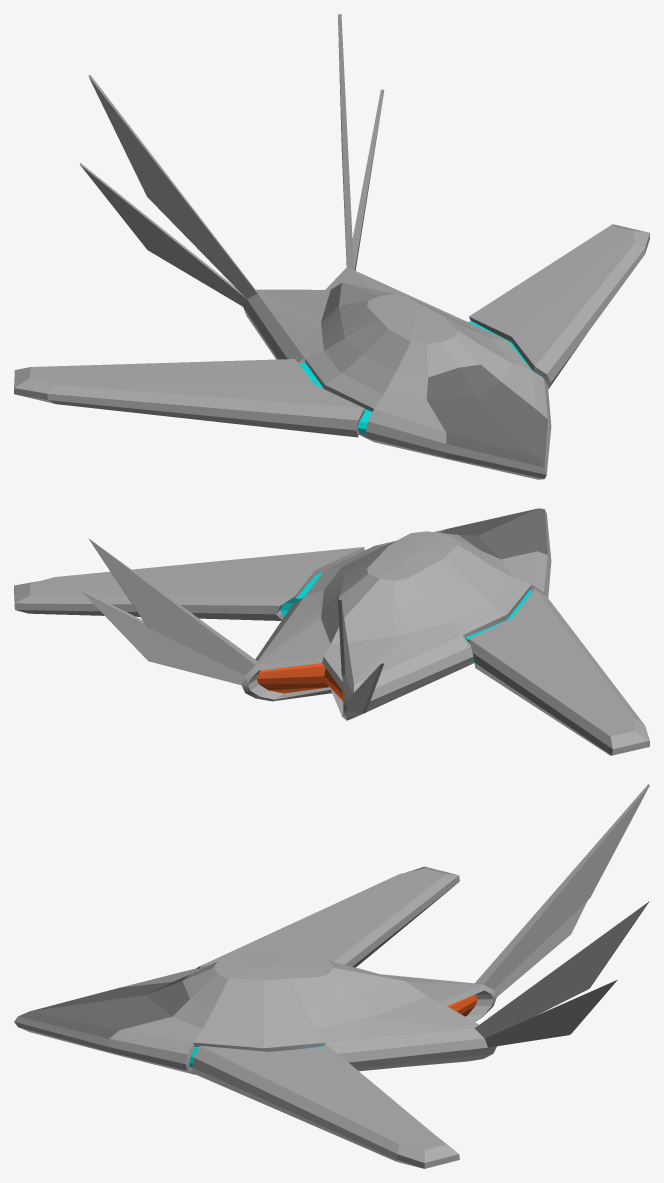
File: AirPlane_Model_001.fbx
3 views of the same model, one above another, from view 1: azimuth 30°, elevation 25°; view 2: azimuth 150°, elevation 25°; view 3: azimuth 270°, elevation 25° (orthographic). The views are drawn at different scales.
Visible parts, largest first — view 1: pPlane3; view 2: pPlane3; view 3: pPlane3.
Boxes of the visible parts, x1,y1,x2,y2 form: pPlane3: [14, 14, 649, 479]; pPlane3: [14, 508, 649, 755]; pPlane3: [14, 784, 649, 1168].
Size of the model in its own units: 6.05 by 5.48 by 2.
